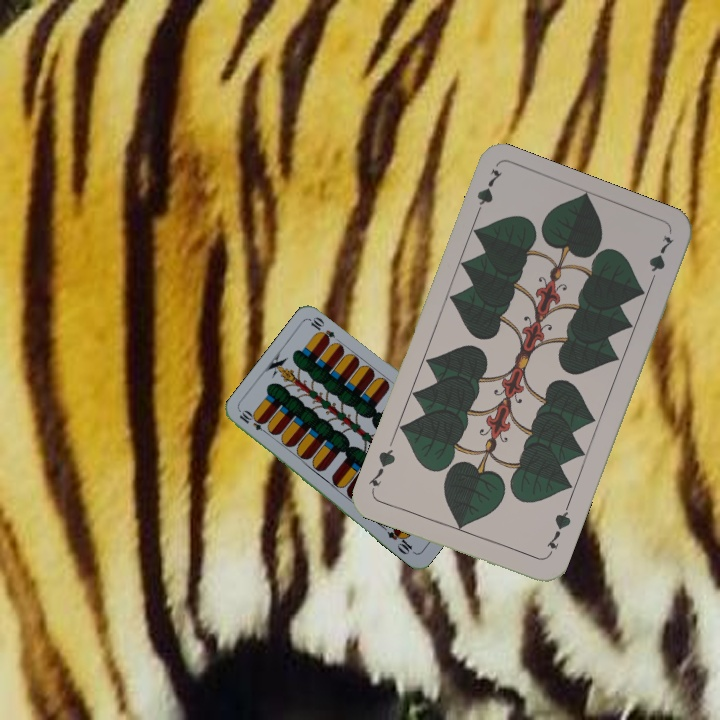E10: (235, 407, 272, 437)
G7: (470, 165, 505, 222), (542, 503, 574, 560)
